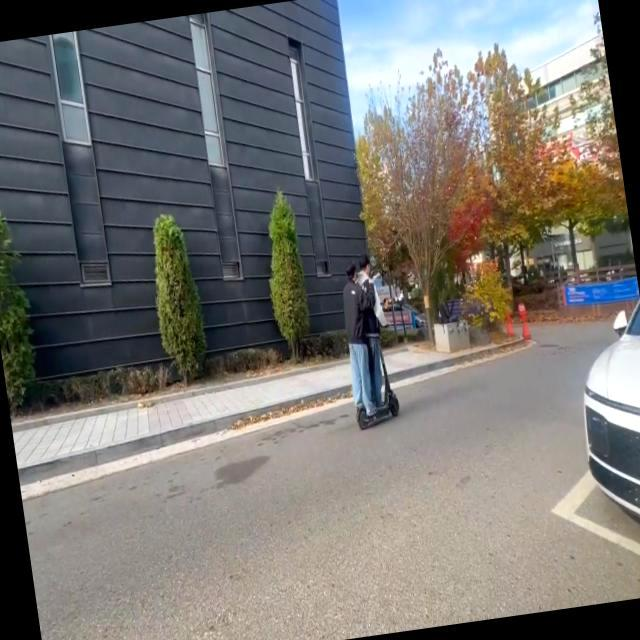bare_head: (353, 254, 372, 278), (340, 260, 359, 283)
human: (339, 261, 376, 417), (358, 254, 390, 408)
kickboard: (352, 390, 404, 434)
